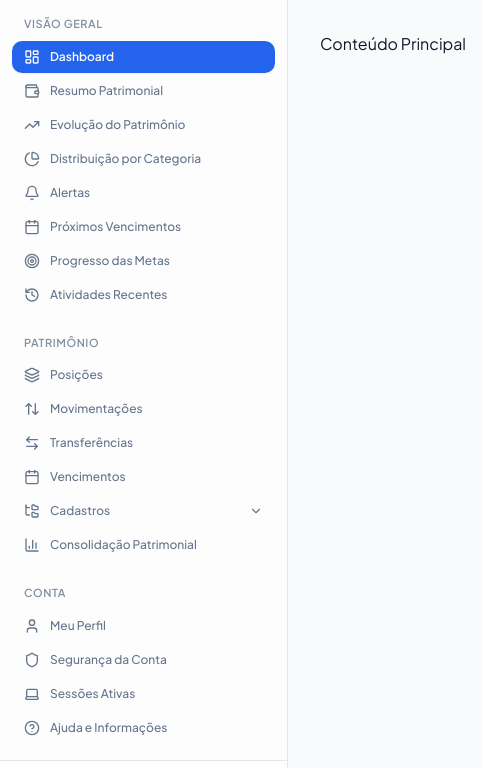
Scenario: AppLayout - Submenu Cadastros › permite expandir e contrair o submenu Cadastros via clique no botão
This screenshot has width=482, height=768.
(page scrolled)
Expected: the link "Instituições" is not shown
# Clica para expandir
Click the button with aria-label "Cadastros submenu".
click(80, 510)  # box x1=12 y1=495 x2=275 y2=527
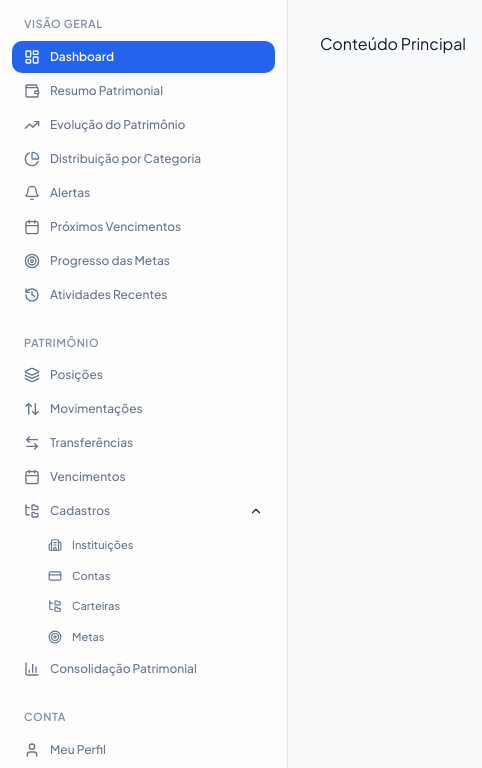
Expected: the button with aria-label "Cadastros submenu" is expanded
Expected: the link "Instituições" is shown, x1=48 y1=538 x2=133 y2=552
Expected: the link "Contas" is shown, x1=48 y1=568 x2=110 y2=583
# Clica para contrair
Click the button with aria-label "Cadastros submenu".
click(80, 510)  # box x1=12 y1=495 x2=275 y2=527
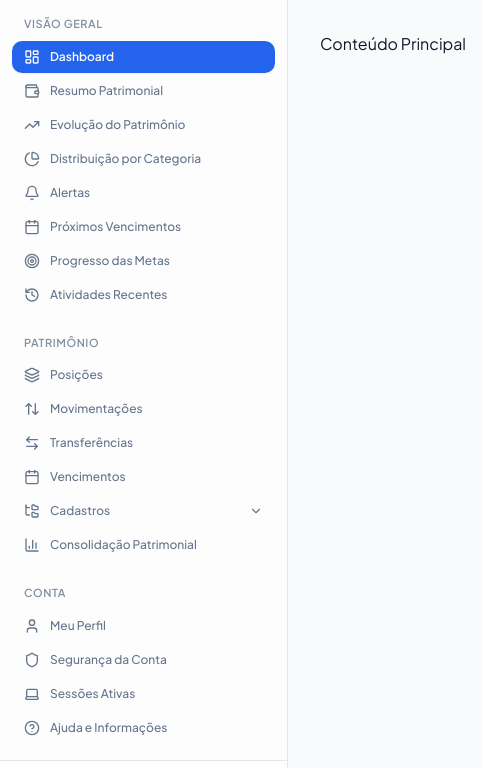
Expected: the button with aria-label "Cadastros submenu" is collapsed, x1=12 y1=495 x2=275 y2=527
Expected: the link "Instituições" is gone
